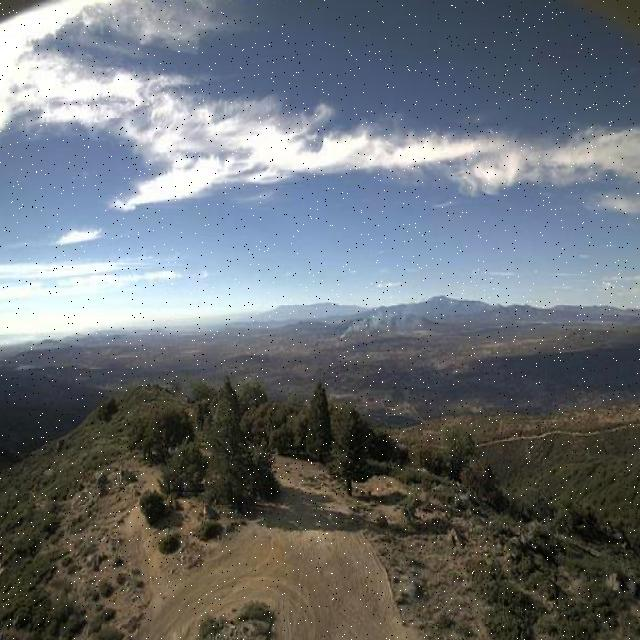smoke: (328, 300, 427, 345)
